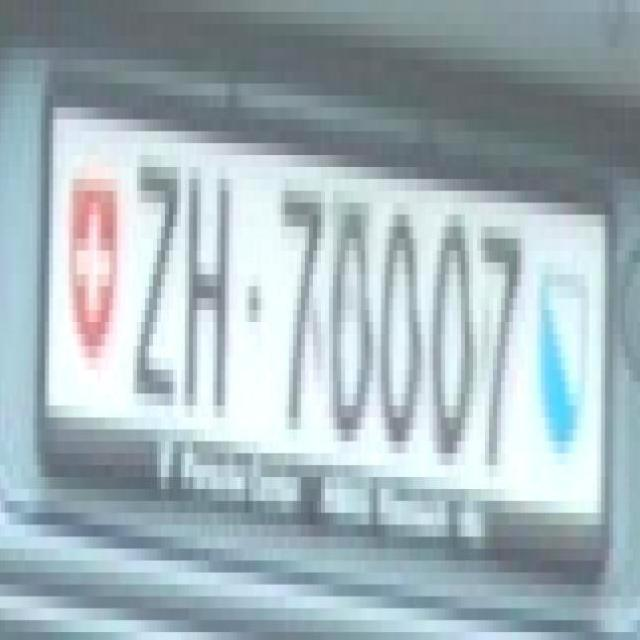license-plate: (43, 74, 624, 582)
